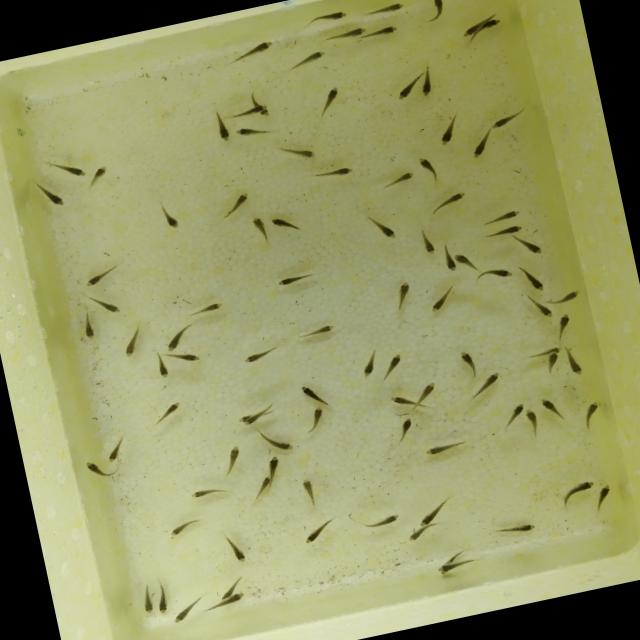fingerling: (494, 399, 532, 434), (36, 174, 70, 213), (48, 156, 90, 186), (417, 495, 455, 526), (231, 38, 276, 64), (558, 478, 600, 505), (369, 211, 402, 243), (432, 112, 463, 146), (256, 427, 292, 456), (299, 378, 330, 411), (300, 8, 348, 29), (82, 263, 122, 288), (170, 596, 203, 626), (92, 290, 125, 320), (310, 162, 355, 184), (116, 328, 145, 362), (160, 323, 194, 352), (218, 443, 246, 478), (268, 210, 304, 237), (245, 212, 272, 248), (488, 106, 528, 130), (277, 140, 317, 163), (233, 120, 271, 144), (222, 531, 248, 566), (286, 48, 331, 68), (318, 82, 346, 114), (467, 127, 495, 159), (300, 518, 334, 544), (472, 369, 506, 395), (521, 264, 549, 294), (248, 470, 275, 501), (479, 207, 523, 226), (222, 189, 254, 215), (324, 24, 370, 42), (164, 518, 201, 540), (378, 353, 406, 382), (210, 576, 241, 602), (538, 394, 566, 422), (249, 86, 272, 120), (360, 0, 406, 17), (390, 76, 420, 102), (102, 434, 128, 464), (588, 482, 614, 512), (152, 398, 184, 422), (302, 476, 322, 514), (379, 168, 417, 188), (528, 294, 555, 322), (414, 380, 443, 406), (451, 247, 480, 273), (416, 154, 442, 183), (560, 347, 584, 378), (82, 454, 108, 482), (436, 556, 474, 575), (78, 309, 98, 345), (137, 580, 157, 616), (151, 582, 172, 616), (172, 346, 204, 368), (576, 398, 602, 425), (392, 412, 418, 439), (390, 278, 414, 307), (389, 389, 420, 411), (436, 188, 470, 208), (192, 298, 226, 318), (416, 65, 436, 99), (357, 348, 380, 377), (415, 227, 438, 256), (190, 481, 227, 499), (518, 238, 548, 260), (212, 112, 232, 145), (456, 348, 478, 378), (480, 265, 516, 283), (232, 102, 270, 119), (542, 349, 564, 378), (162, 205, 184, 233), (262, 453, 284, 481), (150, 352, 172, 380), (238, 347, 270, 366), (488, 222, 526, 238), (423, 441, 463, 456), (84, 161, 110, 184), (549, 288, 582, 306), (307, 404, 329, 431), (507, 518, 540, 536), (368, 512, 402, 529), (304, 321, 338, 338), (552, 310, 574, 336), (524, 405, 542, 436), (440, 243, 458, 273), (367, 24, 405, 38), (427, 292, 451, 314), (403, 526, 430, 544), (244, 411, 276, 426), (458, 22, 482, 40), (427, 0, 448, 20), (528, 346, 562, 358), (276, 272, 301, 286), (479, 16, 503, 29)
